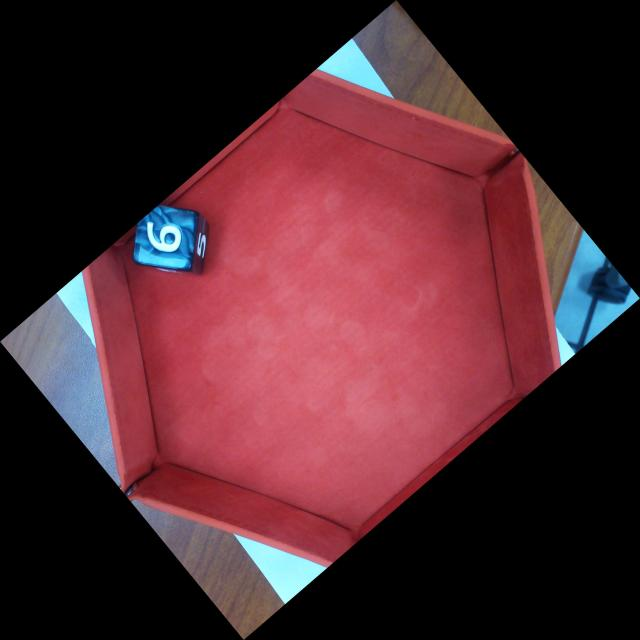dice: (133, 205, 199, 271)
